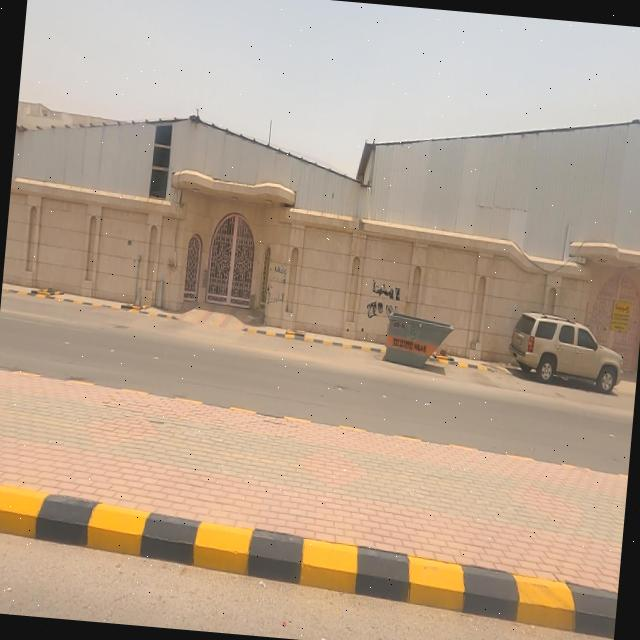Graffiti: (266, 260, 288, 306), (371, 278, 401, 301), (366, 298, 390, 322)
